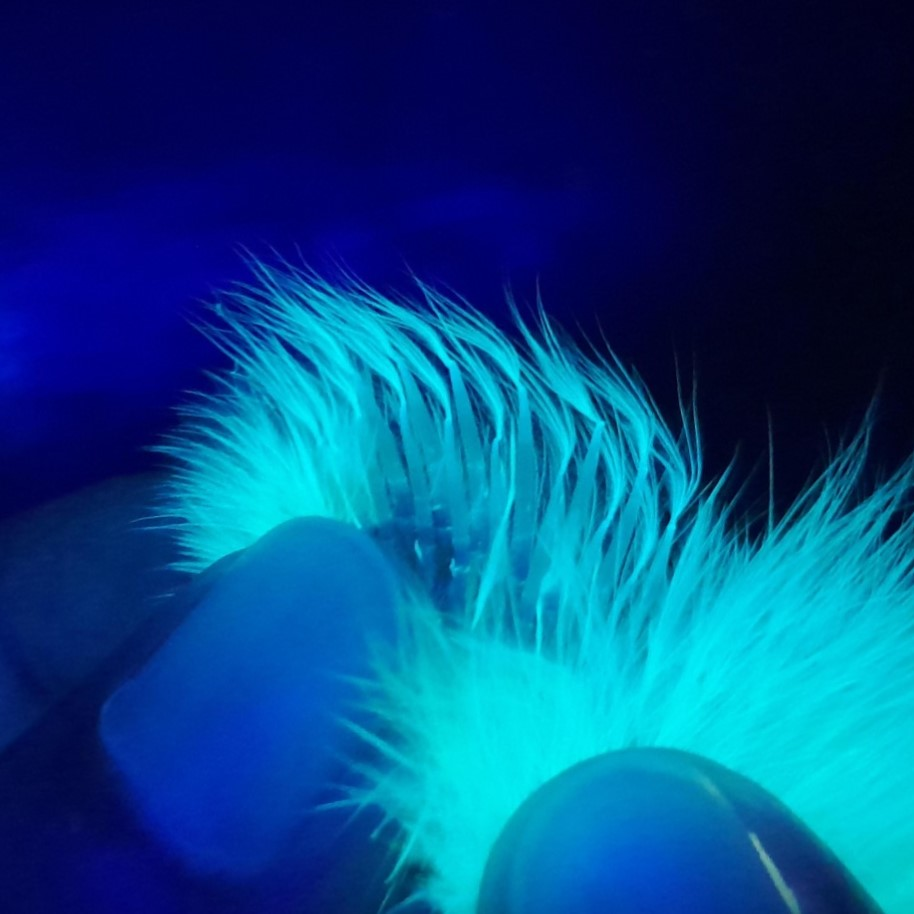female: (330, 333, 690, 723)
